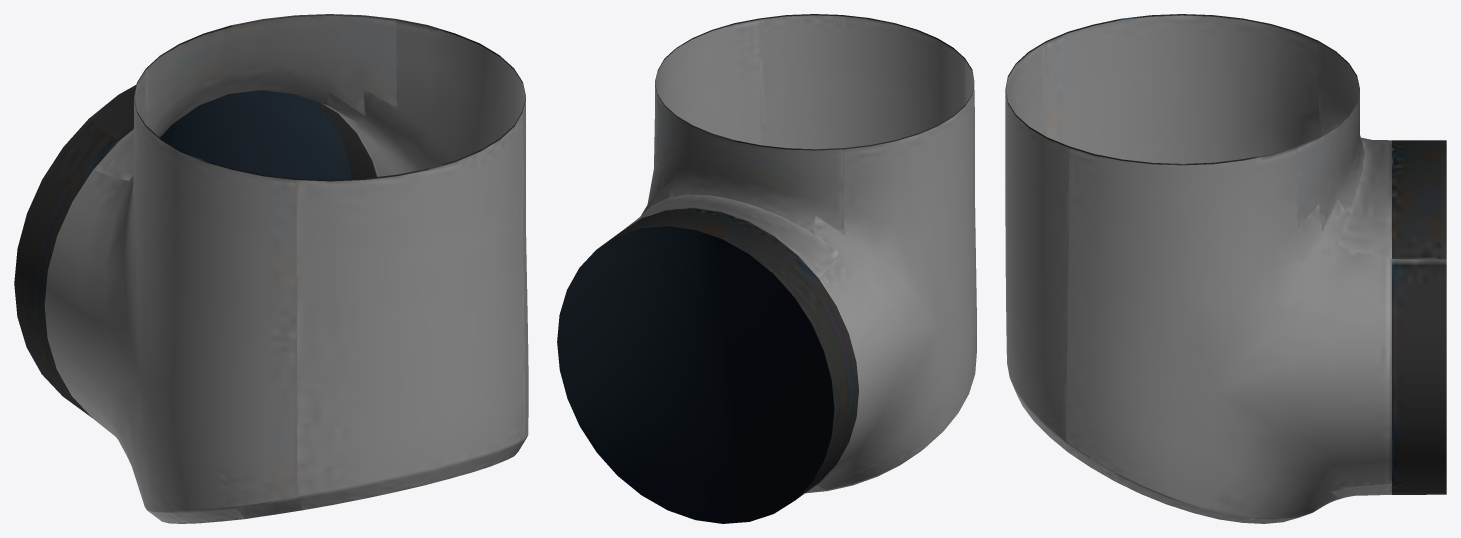
Rendered from shoulder_link.glb.
3 renders of one model, left to right at view 1: azimuth 30°, elevation 25°; view 2: azimuth 150°, elevation 25°; view 3: azimuth 270°, elevation 25°, orthographic. The views are drawn at different scales.
Visible parts, largest first — view 1: base-mesh_003, base-mesh_001; view 2: base-mesh_003, base-mesh_001; view 3: base-mesh_003, base-mesh_001.
Part boxes in pixels (x1,y1,x2,y2): base-mesh_003: [44, 15, 528, 523]; base-mesh_001: [14, 14, 525, 417]; base-mesh_003: [557, 15, 976, 523]; base-mesh_001: [598, 14, 974, 500]; base-mesh_003: [1005, 15, 1391, 523]; base-mesh_001: [1005, 14, 1446, 494].
Size of the model in its own units: 0.181 by 0.2248 by 0.224.
1 material, 1 textured.
